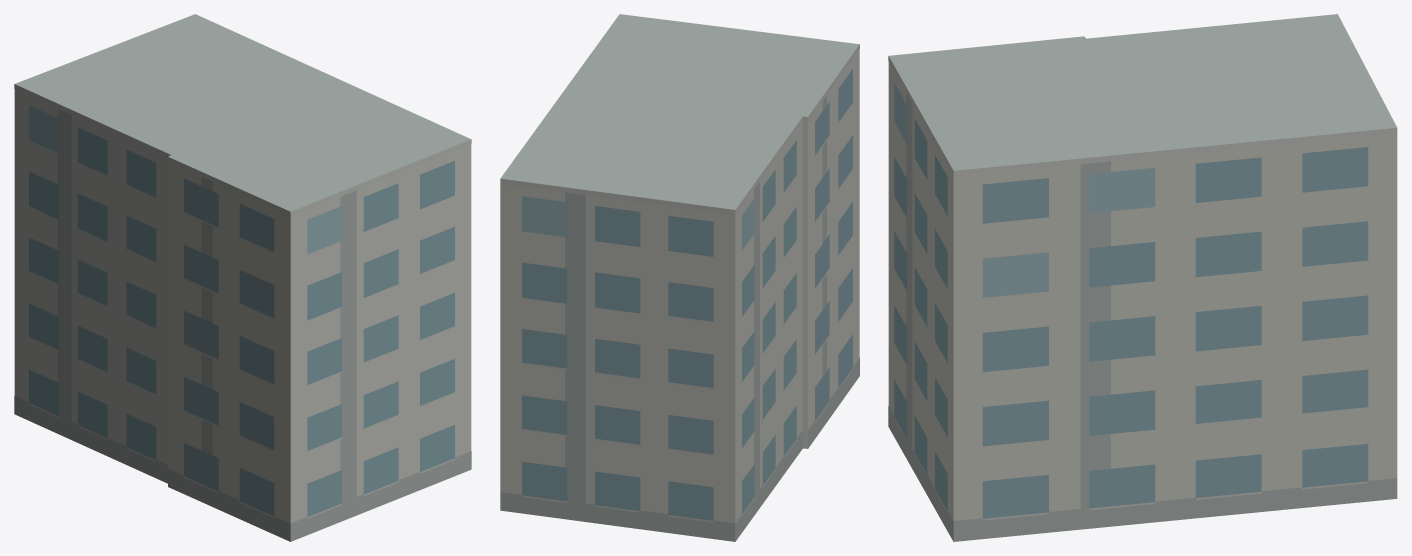
File: survey-upis-32809827.glb
The picture shows the model from 3 angles, left to right: view 1: azimuth 30°, elevation 25°; view 2: azimuth 150°, elevation 25°; view 3: azimuth 270°, elevation 25°; orthographic projection. The views are drawn at different scales.
Parts seen in each view (by area): view 1: survey-upis-32809827.tmp; view 2: survey-upis-32809827.tmp; view 3: survey-upis-32809827.tmp.
Part boxes in pixels (left/top/right/bottom): survey-upis-32809827.tmp: left=14, top=14, right=471, bottom=541; survey-upis-32809827.tmp: left=500, top=14, right=859, bottom=541; survey-upis-32809827.tmp: left=888, top=14, right=1397, bottom=541.
Size of the model in its own units: 14.33 by 15.8 by 19.64.
